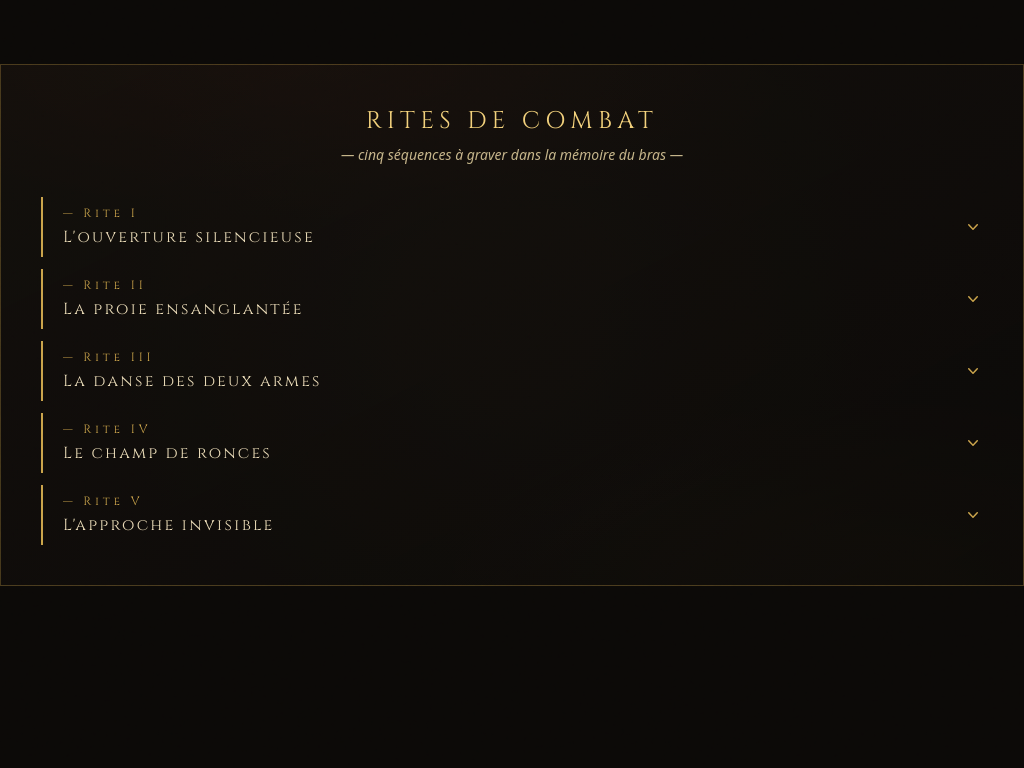
CodexRituals — accordéon (mobile) › ouvre et referme un rite au clic
Step 1. Click the button "— Rite I L'ouverture silencieuse" → (101, 213), box [63, 197, 983, 257]
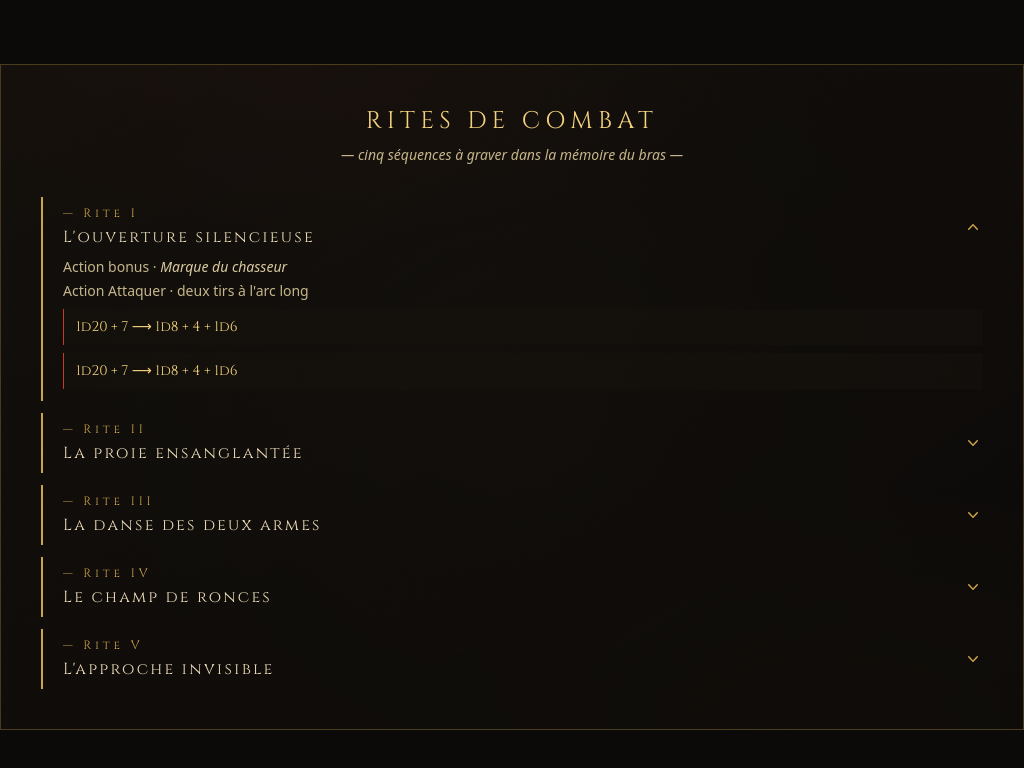
expect the button "— Rite I L'ouverture silencieuse" is expanded: met
expect the element with id "rite-panel-0" is shown: met, box [63, 257, 983, 401]
Step 2. Click the button "— Rite I L'ouverture silencieuse" → (101, 213), box [63, 197, 983, 257]
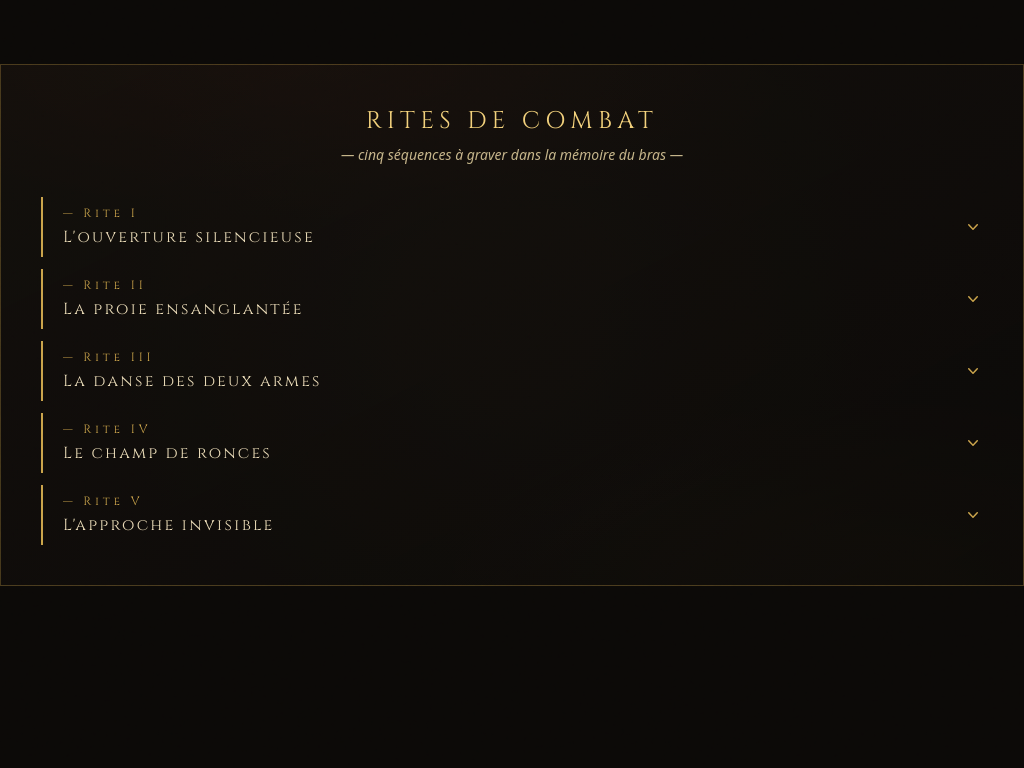
expect the button "— Rite I L'ouverture silencieuse" is collapsed: met, box [63, 197, 983, 257]
expect the element with id "rite-panel-0" is gone: met
